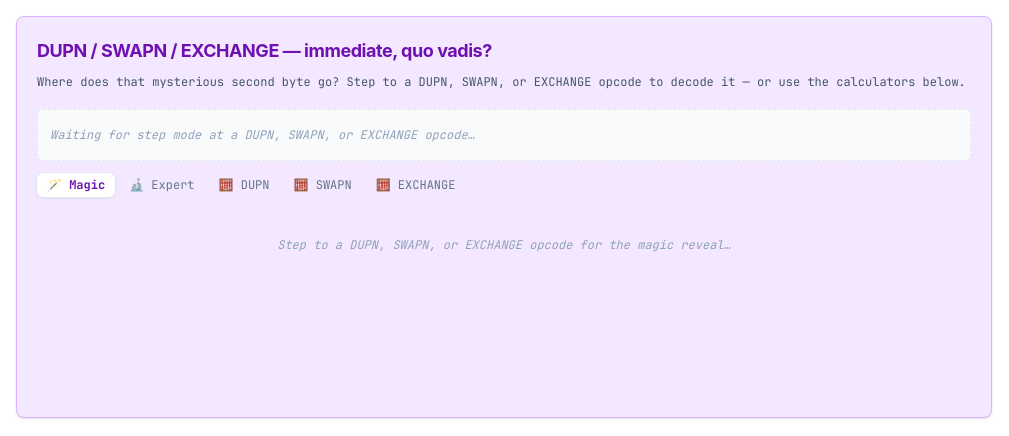
ImmediateQuoVadis › EXCHANGE calculator updates when stack depths change
The image size is (1009, 436).
Click the tab "🧮 EXCHANGE".
click(416, 184)  # box [366,172,466,196]
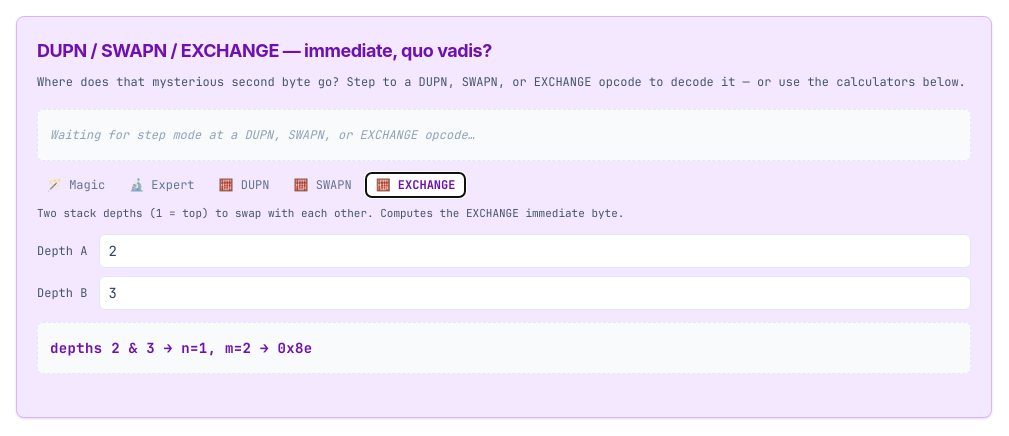
Replace the text in the number field with id "calc-exchange-depth-a" with "3" at {"x": 535, "y": 251}, box [99,234,971,268]
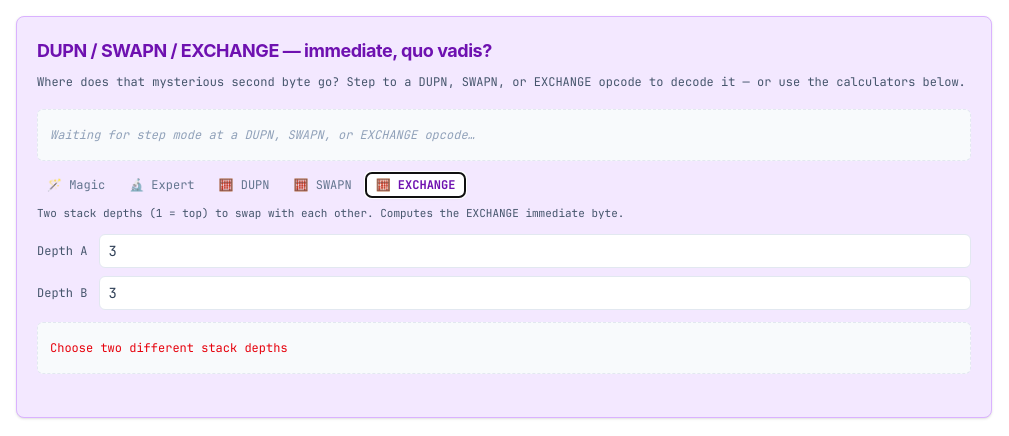
Replace the text in the number field with id "calc-exchange-depth-b" with "4" at {"x": 535, "y": 293}, box [99,276,971,310]
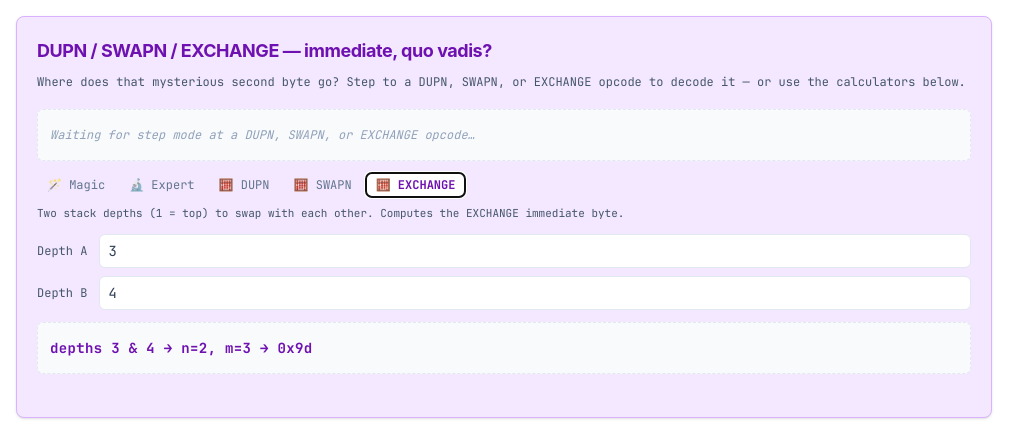
Result: the text "0x9d" is shown at [50,339,312,357]
